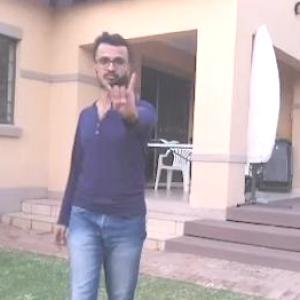takeoff-hand: (94, 64, 143, 123)
